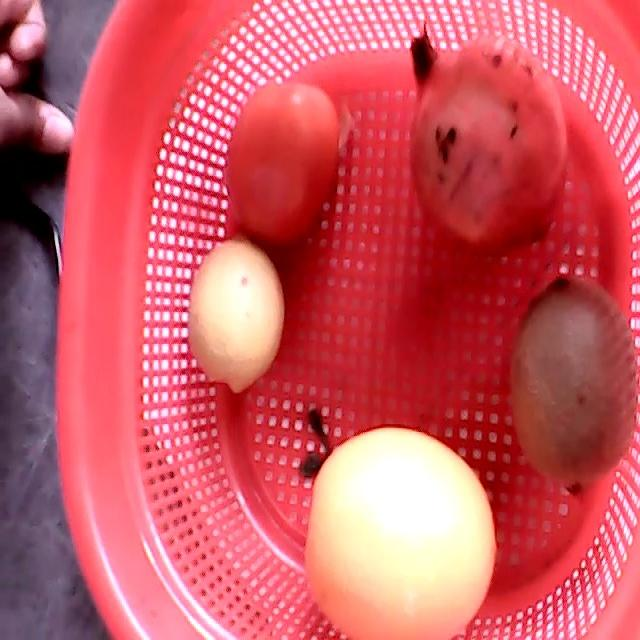apple: (510, 273, 636, 494)
lemon: (189, 241, 284, 397)
orange: (306, 426, 498, 639)
pomegranate: (411, 22, 568, 258)
tomato: (222, 83, 339, 243)
